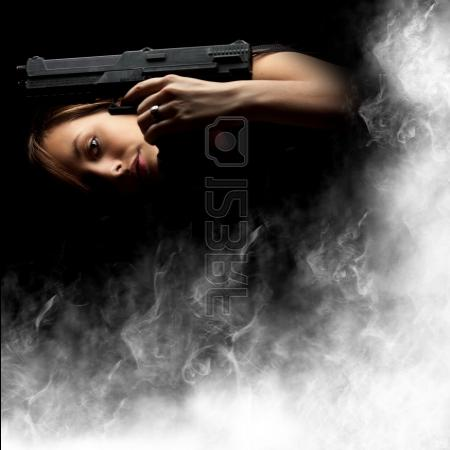Pistol: (9, 37, 254, 155)
